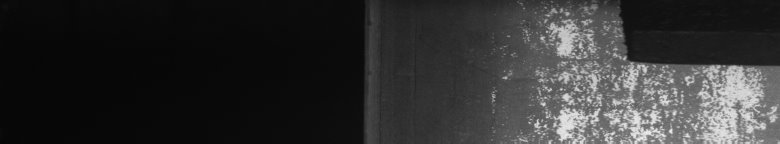kb: (492, 4, 776, 136)
